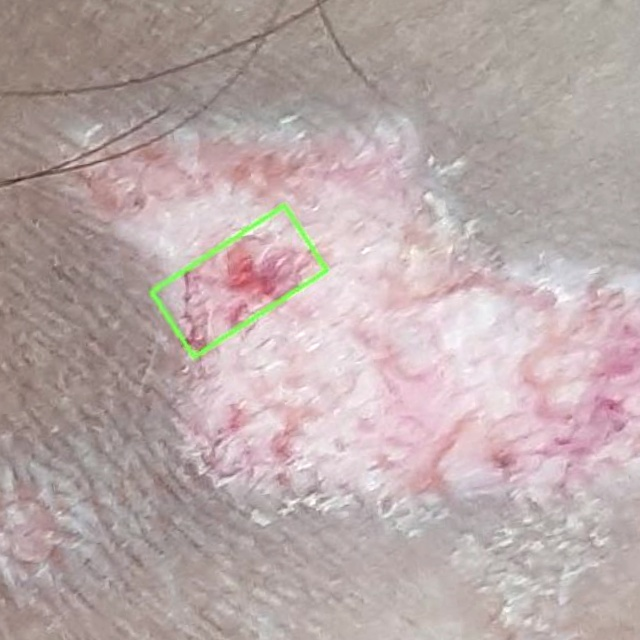Eczema: (151, 206, 326, 357)
